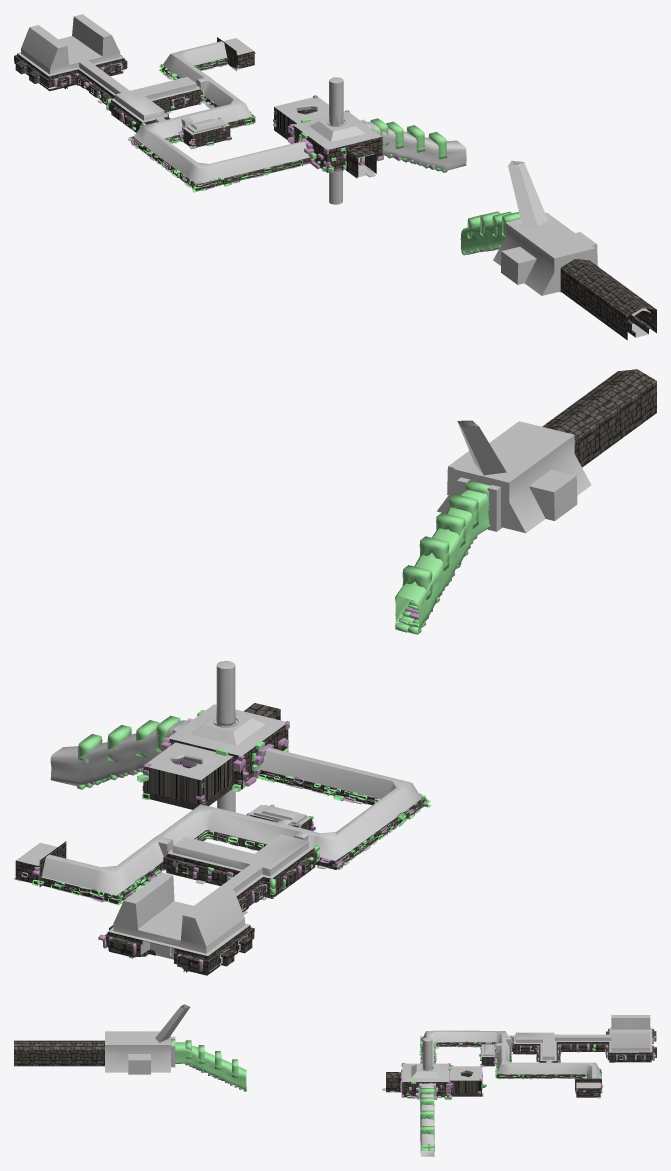
Rendered from TombLevel1_1.FBX.
3 renders of one model, top to bottom at view 1: azimuth 30°, elevation 25°; view 2: azimuth 150°, elevation 25°; view 3: azimuth 270°, elevation 25°, orthographic. The views are drawn at different scales.
Parts seen in each view (by area): view 1: Tomb_Alley2, Tomb_ThousandsEyesRoomR3, TombPentacleR2, TombR_CenterR1, Tomb_AlleyFinal, Tomb_Alley3, GofRockFirstAlley, TombT_Down, Tomb_Alley1, TombT_First; view 2: Tomb_Alley2, Tomb_ThousandsEyesRoomR3, TombR_CenterR1, TombPentacleR2, Tomb_AlleyFinal, Tomb_Alley1, Tomb_Alley3, GofRockFirstAlley, TombT_First, TombT_Down, GofEyesRoomBrick; view 3: Tomb_ThousandsEyesRoomR3, Tomb_Alley2, TombR_CenterR1, TombPentacleR2, Tomb_AlleyFinal, Tomb_Alley1, GofRockFirstAlley, Tomb_Alley3, TombT_Down, TombT_First, GofEyesRoomBrick.
Part boxes in pixels (x1,y1,x2,y2): Tomb_Alley2: (131,37,310,190); Tomb_ThousandsEyesRoomR3: (14,14,202,132); TombPentacleR2: (493,160,598,295); TombR_CenterR1: (273,77,383,178); Tomb_AlleyFinal: (560,259,656,340); Tomb_Alley3: (362,121,466,170); GofRockFirstAlley: (128,51,310,192); TombT_Down: (370,118,446,159); Tomb_Alley1: (460,218,520,251); TombT_First: (467,211,520,238); Tomb_Alley2: (15,747,425,903); Tomb_ThousandsEyesRoomR3: (105,834,317,975); TombR_CenterR1: (137,661,289,809); TombPentacleR2: (437,420,591,532); Tomb_AlleyFinal: (542,369,656,467); Tomb_Alley1: (394,490,490,631); Tomb_Alley3: (50,720,190,786); GofRockFirstAlley: (21,773,431,905); TombT_First: (402,494,478,600); TombT_Down: (78,715,180,763); GofEyesRoomBrick: (98,844,319,972); Tomb_ThousandsEyesRoomR3: (512,1015,656,1062); Tomb_Alley2: (421,1030,601,1097); TombR_CenterR1: (382,1037,486,1099); TombPentacleR2: (105,1004,190,1074); Tomb_AlleyFinal: (14,1040,104,1066); Tomb_Alley1: (175,1042,246,1090); GofRockFirstAlley: (419,1036,603,1095); Tomb_Alley3: (420,1083,434,1156); TombT_Down: (420,1088,434,1140); TombT_First: (185,1040,238,1077); GofEyesRoomBrick: (509,1030,655,1062).
Size of what is drawn, in the model's own units: 5931 by 3377 by 17096.
